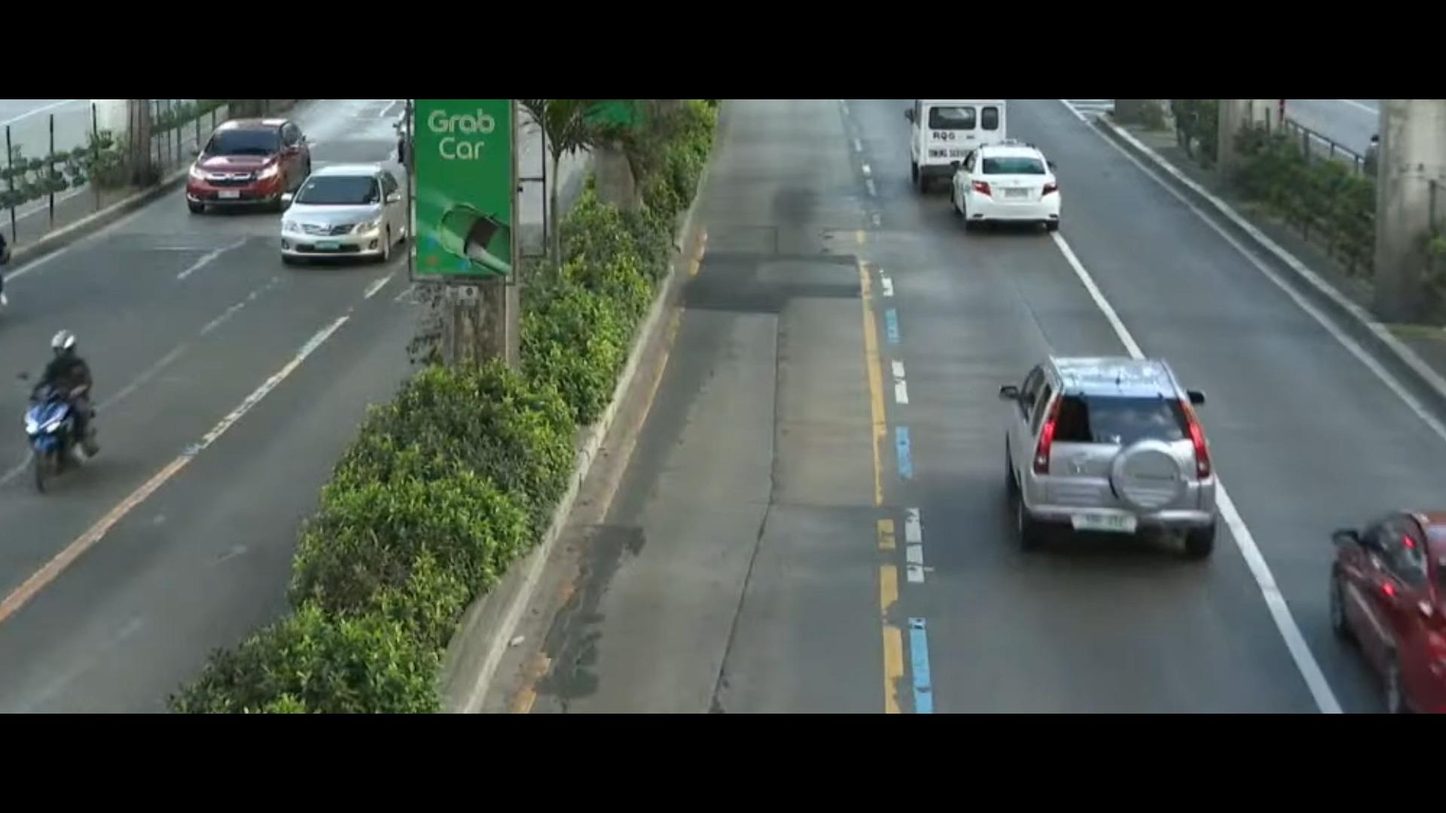Motorcycle: (2, 313, 137, 482)
Multicab: (896, 100, 1025, 194)
SUV: (977, 318, 1254, 569), (182, 111, 313, 220)
Sedan: (1288, 486, 1446, 706), (259, 157, 415, 282), (945, 134, 1072, 240)
